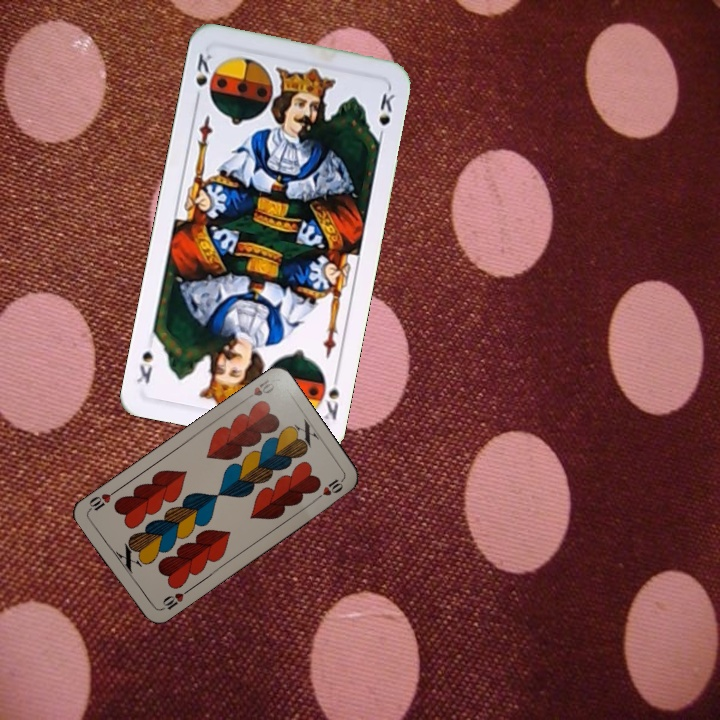H10: (240, 375, 277, 404), (156, 585, 192, 613)
SK: (191, 49, 218, 106), (319, 368, 342, 423)
